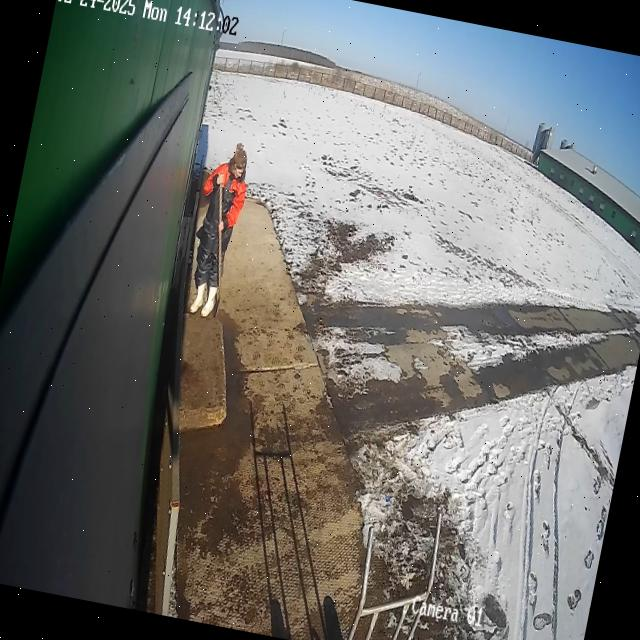Red uniform: (176, 138, 256, 323)
